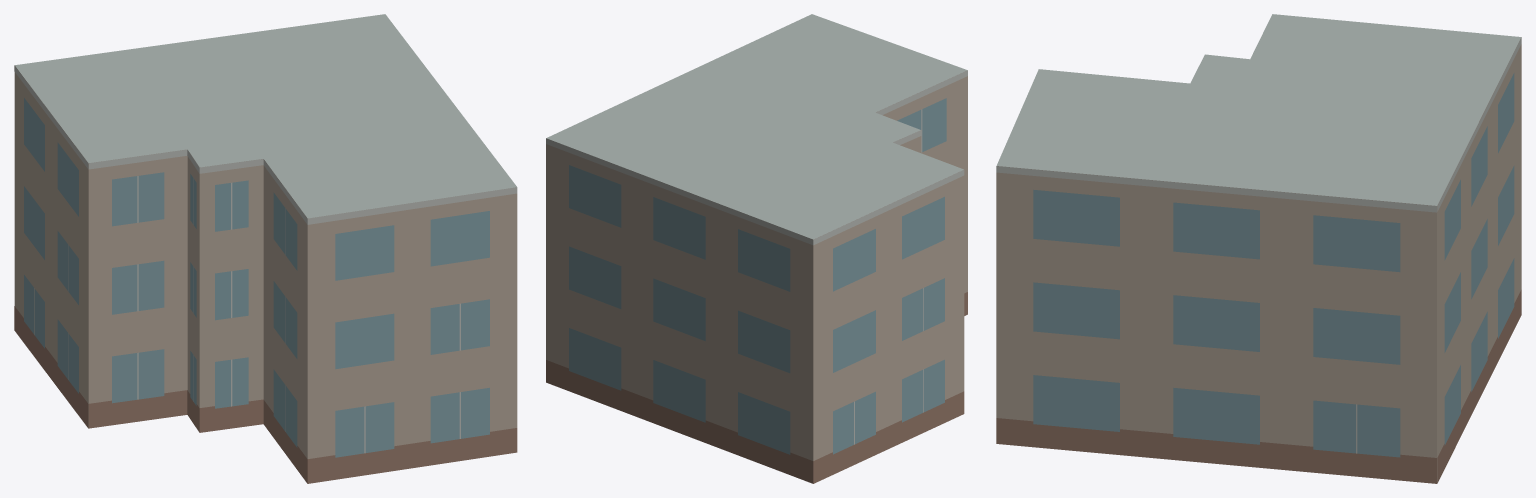
Rendered from survey-upis-32795219.glb.
3 renders of one model, left to right at view 1: azimuth 30°, elevation 25°; view 2: azimuth 150°, elevation 25°; view 3: azimuth 270°, elevation 25°, orthographic. The views are drawn at different scales.
Parts seen in each view (by area): view 1: survey-upis-32795219.tmp; view 2: survey-upis-32795219.tmp; view 3: survey-upis-32795219.tmp.
Boxes of the visible parts, left/top/right/bottom form: survey-upis-32795219.tmp: left=14, top=14, right=517, bottom=483; survey-upis-32795219.tmp: left=546, top=14, right=967, bottom=483; survey-upis-32795219.tmp: left=996, top=14, right=1521, bottom=483.
Size of the model in its own units: 15.12 by 10.2 by 17.47.
